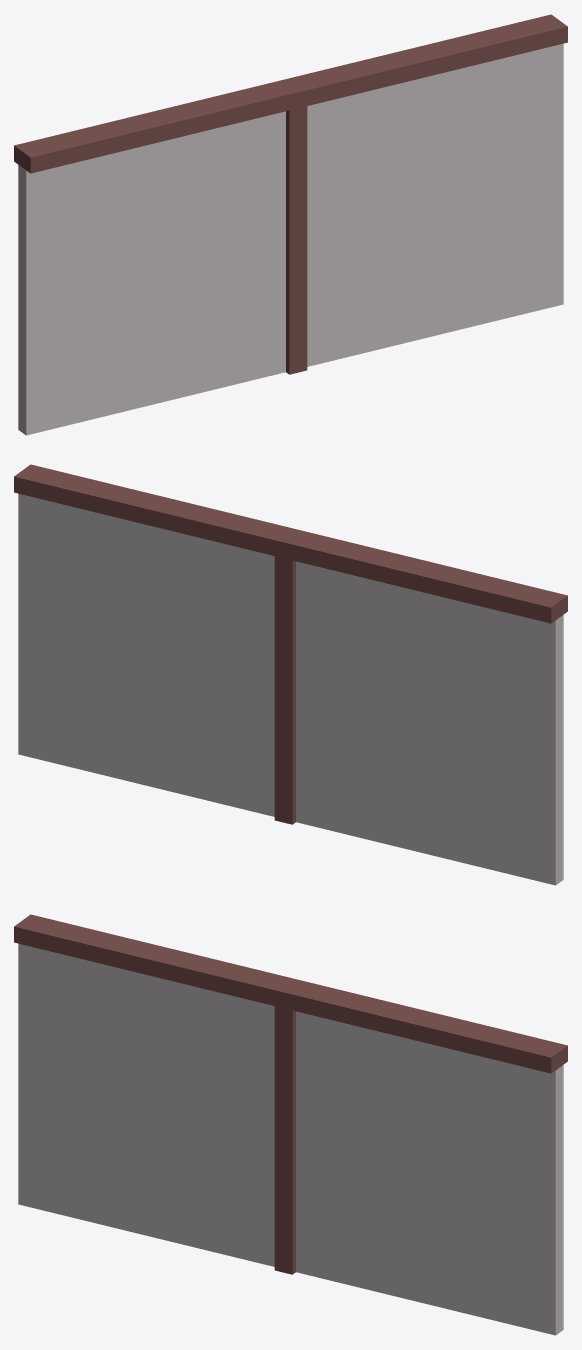
The model's file is BWallPanel_A.fbx.
3 renders of one model, top to bottom at view 1: azimuth 30°, elevation 25°; view 2: azimuth 150°, elevation 25°; view 3: azimuth 330°, elevation 25°, orthographic.
Visible parts, largest first — view 1: BWallPanel_A; view 2: BWallPanel_A; view 3: BWallPanel_A.
Boxes of the visible parts, x1=… form: BWallPanel_A: x1=14, y1=14, x2=567, y2=435; BWallPanel_A: x1=14, y1=464, x2=567, y2=885; BWallPanel_A: x1=14, y1=914, x2=567, y2=1335.
Bounding box in the file's own units: 800 × 400 × 43.
